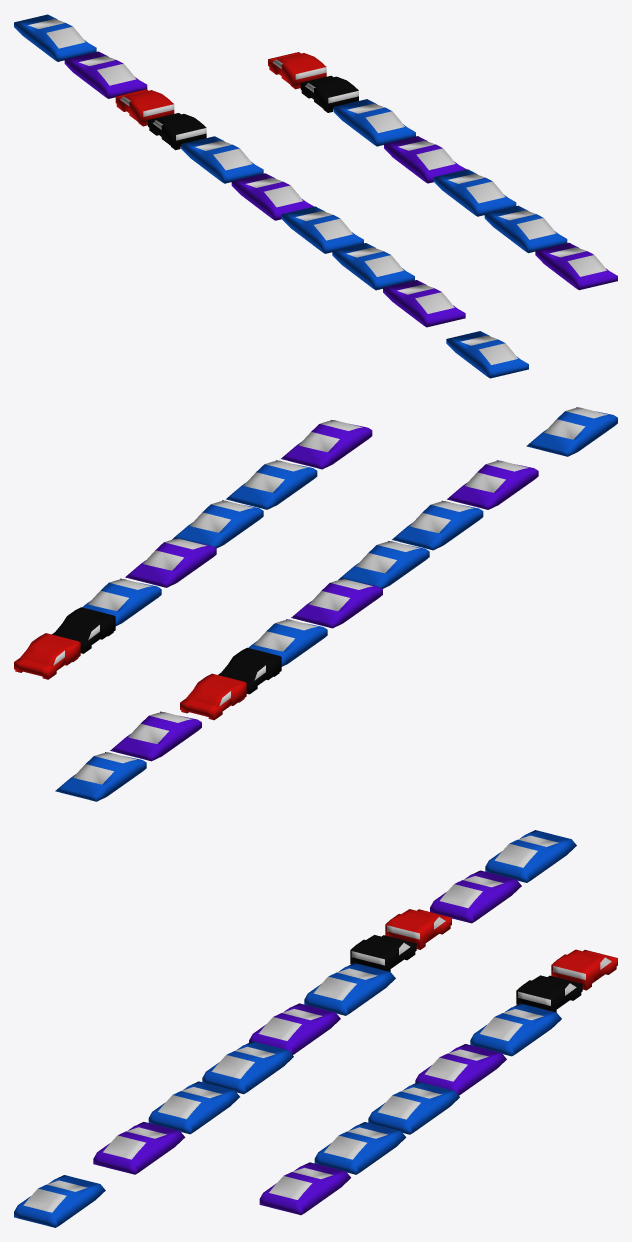
File: carAI5.obj
The picture shows the model from 3 angles, top to bottom: view 1: azimuth 30°, elevation 25°; view 2: azimuth 150°, elevation 25°; view 3: azimuth 330°, elevation 25°; orthographic projection. The views are drawn at different scales.
Visible parts, largest first — view 1: Cube.154_Cube.163, Cube.144_Cube.153, Cube.145_Cube.154, Cube.155_Cube.164, Cube.153_Cube.162, Cube.152_Cube.161, Cube.149_Cube.158, Cube.146_Cube.155, Cube.158_Cube.167, Cube.156_Cube.165, Cube.147_Cube.156, Cube.148_Cube.157 (+5 smaller); view 2: Cube.146_Cube.155, Cube.153_Cube.162, Cube.144_Cube.153, Cube.155_Cube.164, Cube.145_Cube.154, Cube.157_Cube.166, Cube.154_Cube.163, Cube.148_Cube.157, Cube.152_Cube.161, Cube.156_Cube.165, Cube.147_Cube.156, Cube.149_Cube.158 (+5 smaller); view 3: Cube.144_Cube.153, Cube.145_Cube.154, Cube.154_Cube.163, Cube.152_Cube.161, Cube.146_Cube.155, Cube.153_Cube.162, Cube.155_Cube.164, Cube.149_Cube.158, Cube.158_Cube.167, Cube.147_Cube.156, Cube.156_Cube.165, Cube.148_Cube.157 (+5 smaller).
Part boxes in pixels (left/top/right/bottom): Cube.154_Cube.163: left=535, top=242, right=617, bottom=290; Cube.144_Cube.153: left=446, top=331, right=528, bottom=378; Cube.145_Cube.154: left=383, top=280, right=465, bottom=327; Cube.155_Cube.164: left=484, top=205, right=567, bottom=253; Cube.153_Cube.162: left=14, top=14, right=96, bottom=61; Cube.152_Cube.161: left=64, top=51, right=147, bottom=98; Cube.149_Cube.158: left=181, top=136, right=263, bottom=183; Cube.146_Cube.155: left=332, top=243, right=414, bottom=290; Cube.158_Cube.167: left=333, top=99, right=415, bottom=146; Cube.156_Cube.165: left=433, top=169, right=516, bottom=216; Cube.147_Cube.156: left=281, top=206, right=363, bottom=253; Cube.148_Cube.157: left=231, top=173, right=313, bottom=220; Cube.146_Cube.155: left=392, top=500, right=483, bottom=550; Cube.153_Cube.162: left=55, top=752, right=146, bottom=801; Cube.144_Cube.153: left=526, top=407, right=617, bottom=456; Cube.155_Cube.164: left=226, top=460, right=317, bottom=509; Cube.145_Cube.154: left=447, top=460, right=538, bottom=509; Cube.157_Cube.166: left=125, top=538, right=216, bottom=587; Cube.154_Cube.163: left=281, top=420, right=372, bottom=469; Cube.148_Cube.157: left=291, top=578, right=382, bottom=628; Cube.152_Cube.161: left=110, top=711, right=201, bottom=761; Cube.156_Cube.165: left=172, top=500, right=263, bottom=548; Cube.147_Cube.156: left=338, top=541, right=429, bottom=588; Cube.149_Cube.158: left=248, top=619, right=327, bottom=666; Cube.144_Cube.153: left=14, top=1175, right=105, bottom=1227; Cube.145_Cube.154: left=93, top=1122, right=185, bottom=1174; Cube.154_Cube.163: left=259, top=1162, right=350, bottom=1215; Cube.152_Cube.161: left=430, top=870, right=521, bottom=923; Cube.146_Cube.155: left=148, top=1081, right=239, bottom=1134; Cube.153_Cube.162: left=485, top=830, right=576, bottom=882; Cube.155_Cube.164: left=314, top=1122, right=406, bottom=1174; Cube.149_Cube.158: left=304, top=963, right=395, bottom=1015; Cube.158_Cube.167: left=470, top=1003, right=561, bottom=1056; Cube.147_Cube.156: left=202, top=1041, right=293, bottom=1094; Cube.156_Cube.165: left=368, top=1081, right=459, bottom=1134; Cube.148_Cube.157: left=249, top=1003, right=340, bottom=1054.
Size of the model in its own units: 199 by 15.93 by 821.
